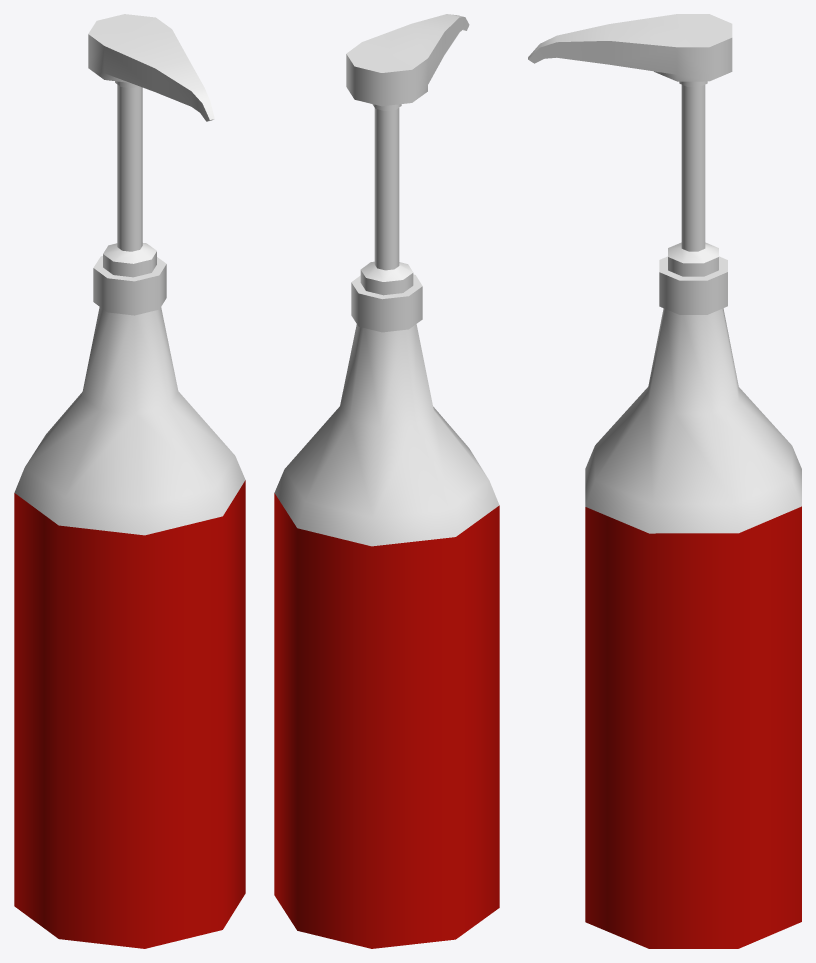
Rendered from kitchen_ketchup.FBX.
3 renders of one model, left to right at view 1: azimuth 30°, elevation 25°; view 2: azimuth 150°, elevation 25°; view 3: azimuth 270°, elevation 25°, orthographic. The views are drawn at different scales.
Parts seen in each view (by area): view 1: kitchen_ketchup; view 2: kitchen_ketchup; view 3: kitchen_ketchup.
Part boxes in pixels (left/top/right/bottom): kitchen_ketchup: left=14, top=14, right=245, bottom=948; kitchen_ketchup: left=274, top=14, right=499, bottom=948; kitchen_ketchup: left=528, top=14, right=801, bottom=948.
Bounding box in the file's own units: 10.64 × 47.23 × 13.43.
